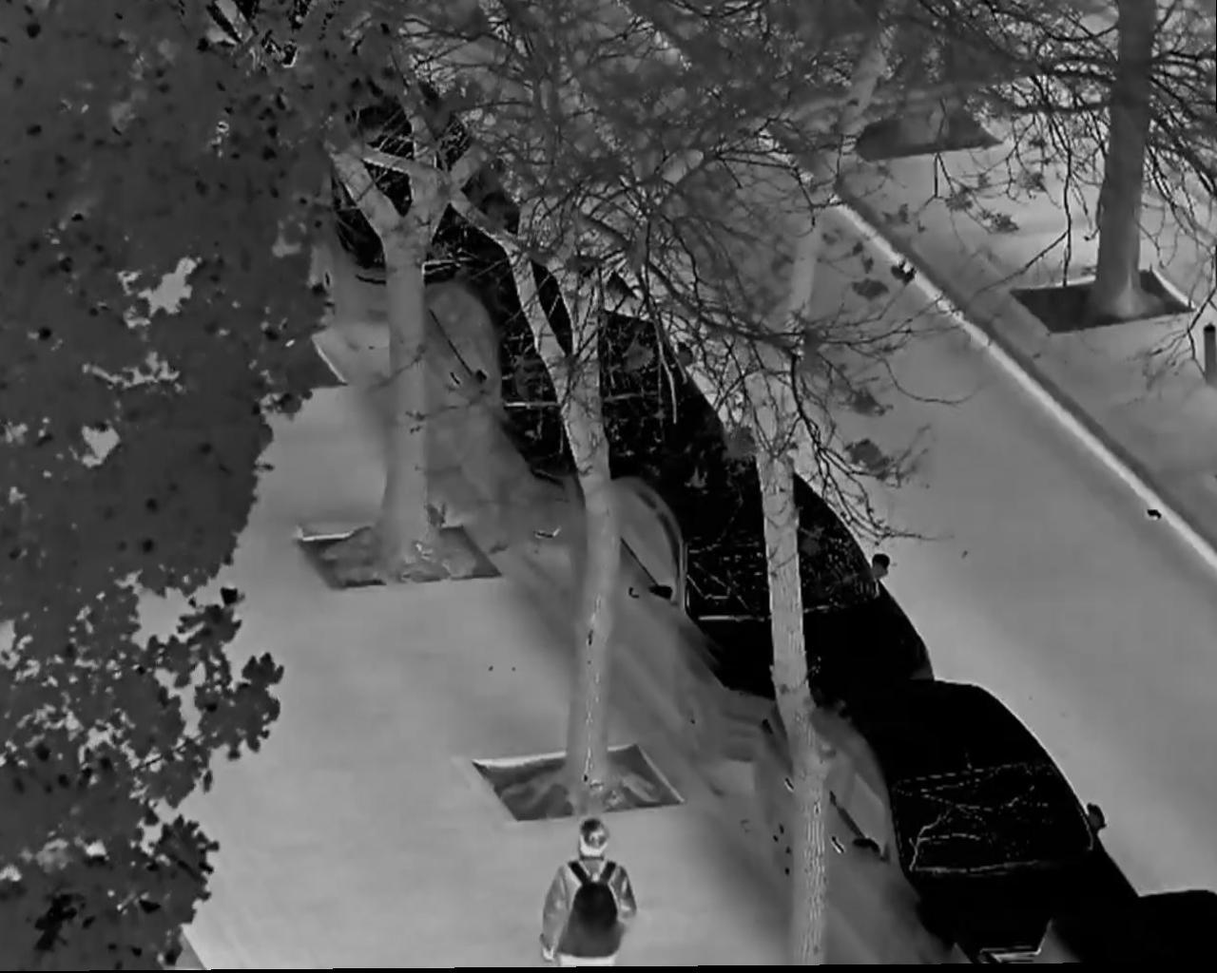person: (526, 815, 642, 973)
